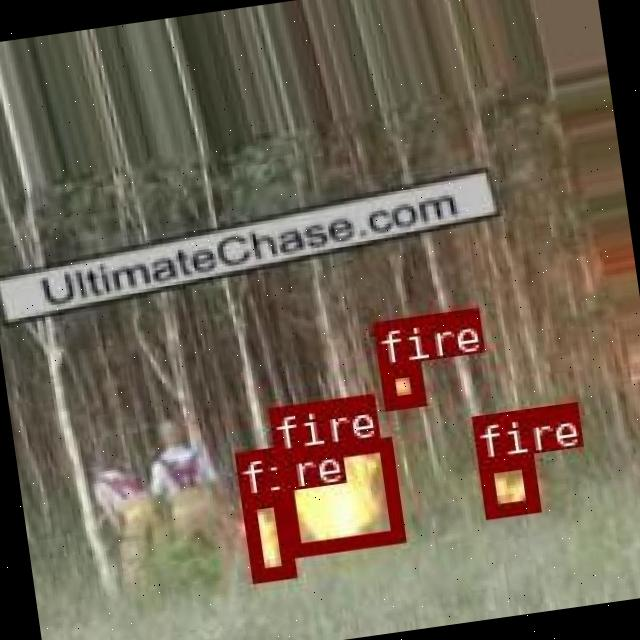fire: (273, 436, 402, 555), (239, 492, 292, 581), (478, 452, 538, 517), (378, 360, 423, 408)
